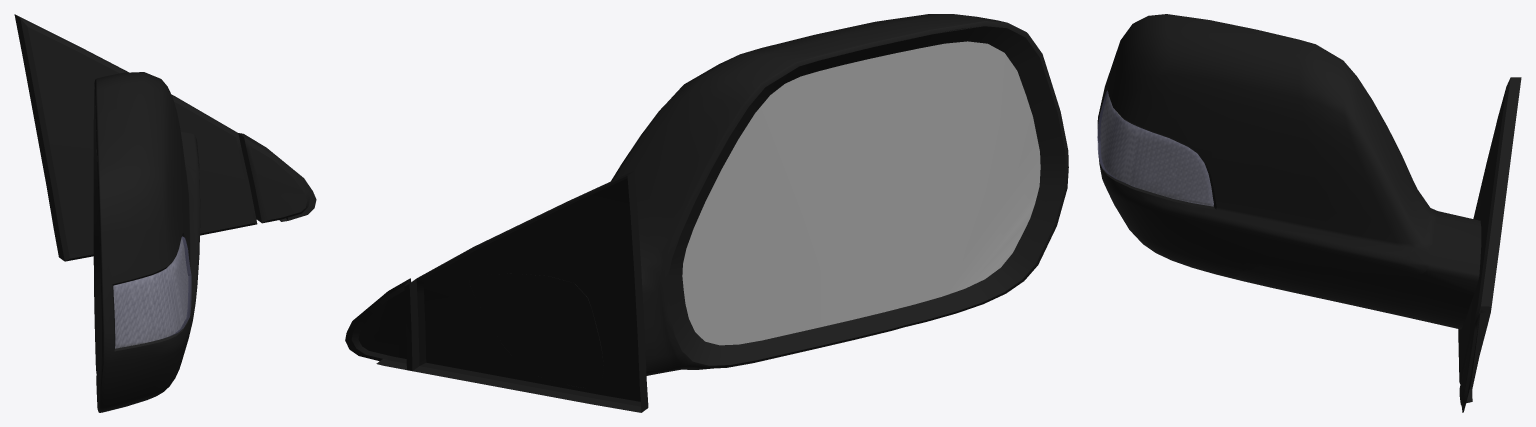
3 views of the same model, side by side, from view 1: azimuth 30°, elevation 25°; view 2: azimuth 150°, elevation 25°; view 3: azimuth 270°, elevation 25° (orthographic). The views are drawn at different scales.
Visible parts, largest first — view 1: H812_281I_R_H812_281I_R_3_D, H812_281I_R_H812_281I_R_4_DTaSI, H812_281I_R_1_N_H812_281I_R; view 2: H812_281I_R_H812_281I_R_3_D, H812_281I_R_H812_281I_R_2_DTaSI; view 3: H812_281I_R_H812_281I_R_3_D, H812_281I_R_H812_281I_R_4_DTaSI, H812_281I_R_1_N_H812_281I_R.
Boxes of the visible parts, x1=… form: H812_281I_R_H812_281I_R_3_D: x1=14, y1=14, x2=316, y2=412; H812_281I_R_H812_281I_R_4_DTaSI: x1=113, y1=236, x2=191, y2=348; H812_281I_R_1_N_H812_281I_R: x1=113, y1=238, x2=188, y2=348; H812_281I_R_H812_281I_R_3_D: x1=345, y1=14, x2=1068, y2=412; H812_281I_R_H812_281I_R_2_DTaSI: x1=682, y1=41, x2=1040, y2=345; H812_281I_R_H812_281I_R_3_D: x1=1097, y1=14, x2=1521, y2=412; H812_281I_R_H812_281I_R_4_DTaSI: x1=1097, y1=90, x2=1213, y2=206; H812_281I_R_1_N_H812_281I_R: x1=1100, y1=93, x2=1213, y2=206.
Size of the model in its own units: 39.41 by 23.95 by 38.28.
